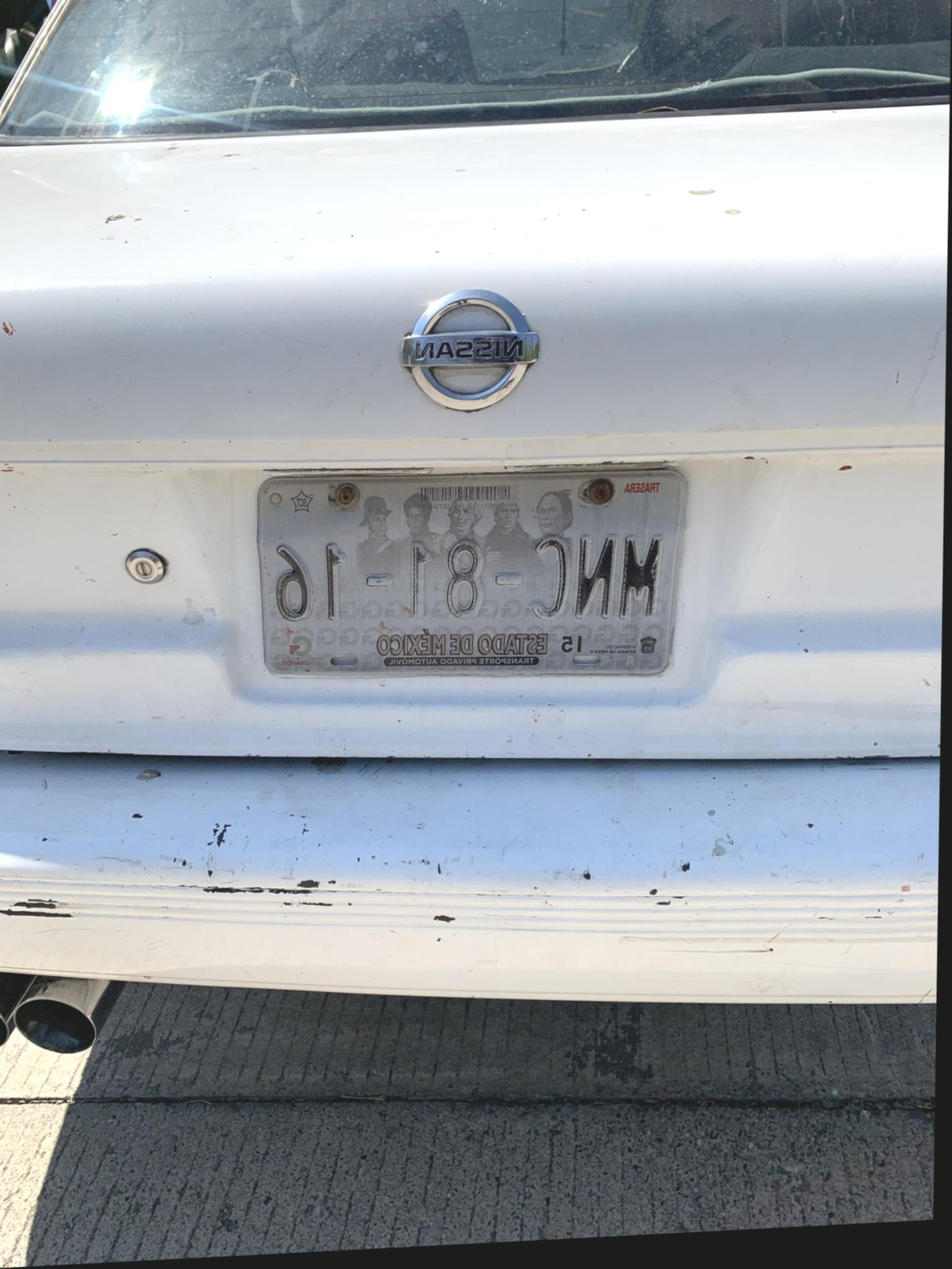License_Plate: (216, 431, 722, 725)
